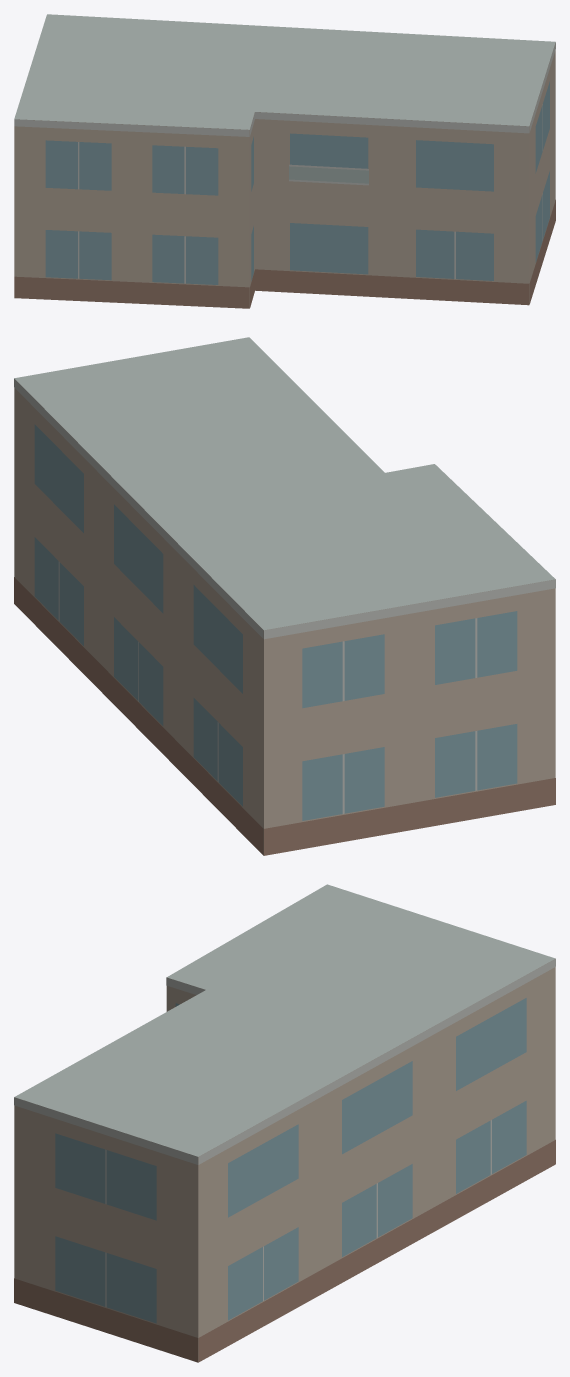
File: survey-upis-32675500.glb
3 views of the same model, one above another, from view 1: azimuth 30°, elevation 25°; view 2: azimuth 150°, elevation 25°; view 3: azimuth 270°, elevation 25° (orthographic). The views are drawn at different scales.
Parts seen in each view (by area): view 1: survey-upis-32675500.tmp; view 2: survey-upis-32675500.tmp; view 3: survey-upis-32675500.tmp.
Part boxes in pixels (<box>): survey-upis-32675500.tmp: <box>14,14,555,308</box>; survey-upis-32675500.tmp: <box>14,337,555,855</box>; survey-upis-32675500.tmp: <box>14,884,555,1362</box>.
Bounding box in the file's own units: 17.34 × 6.1 × 14.56.
